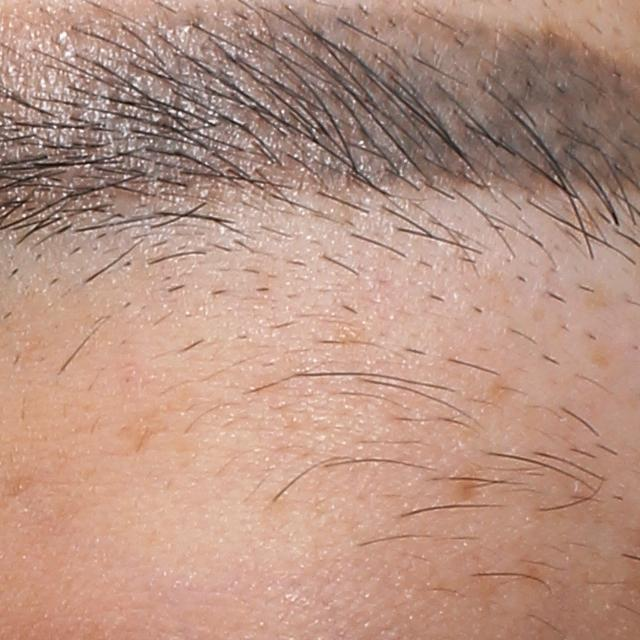melasma: (449, 469, 483, 505)
